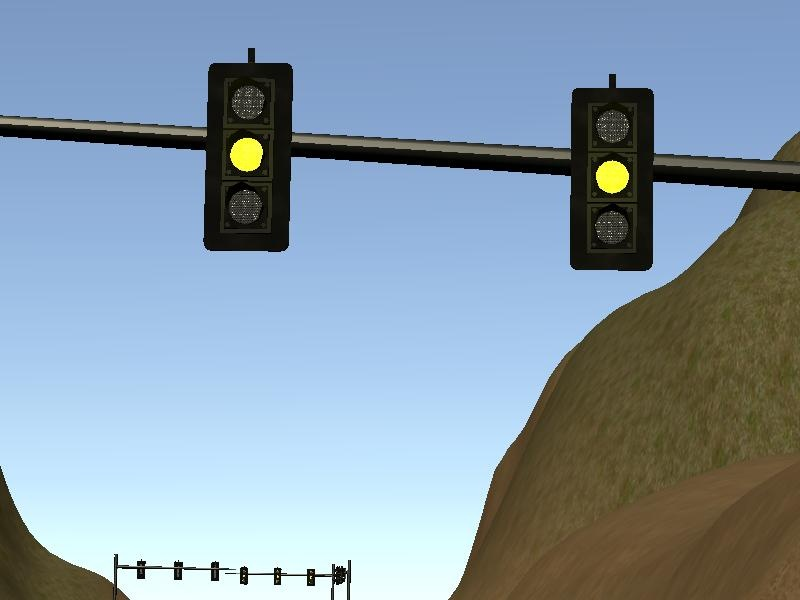yellow: (560, 79, 667, 292), (197, 50, 301, 261)
